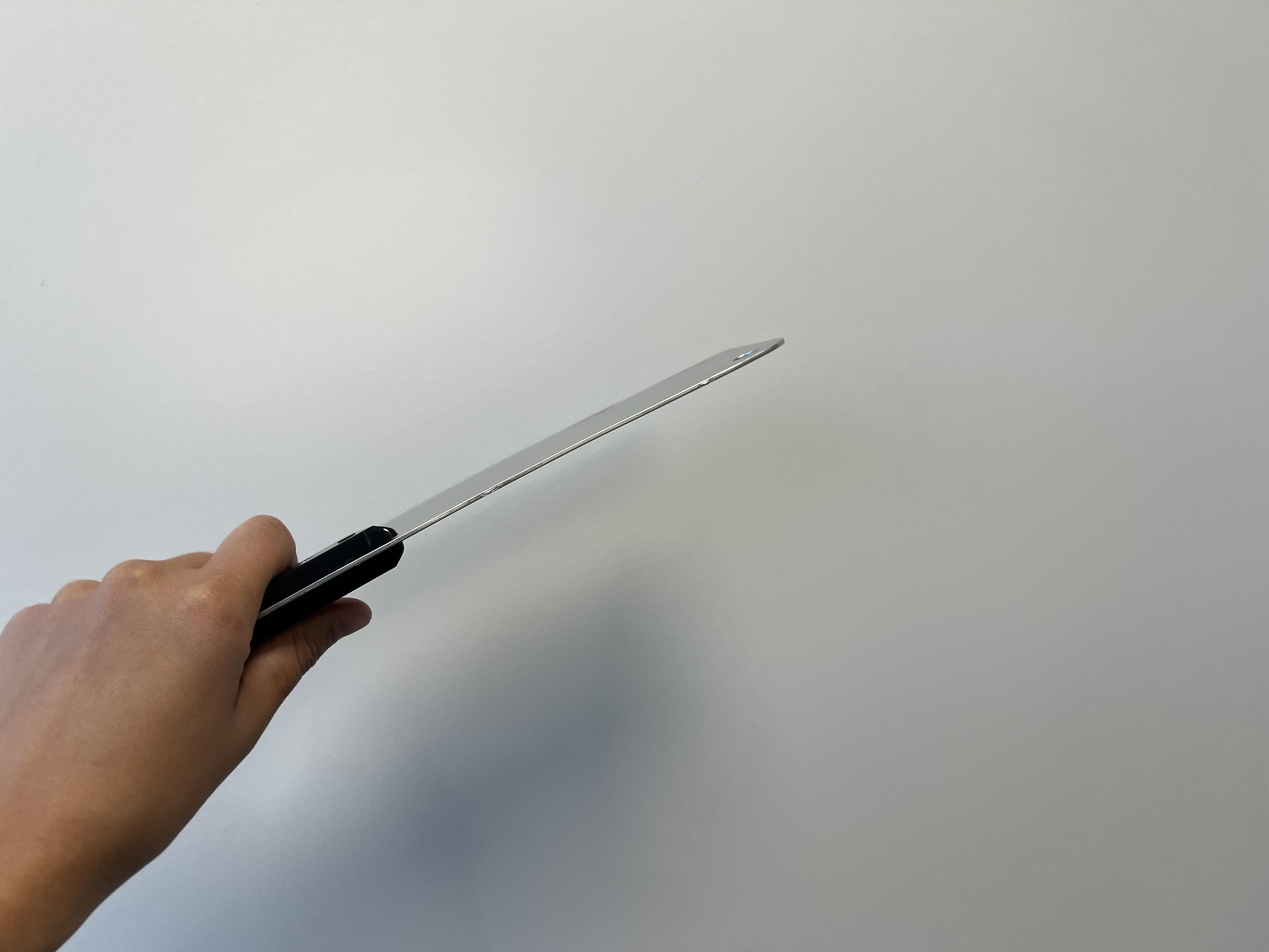Knife: (0, 518, 368, 952), (0, 516, 371, 922), (301, 341, 785, 626)
